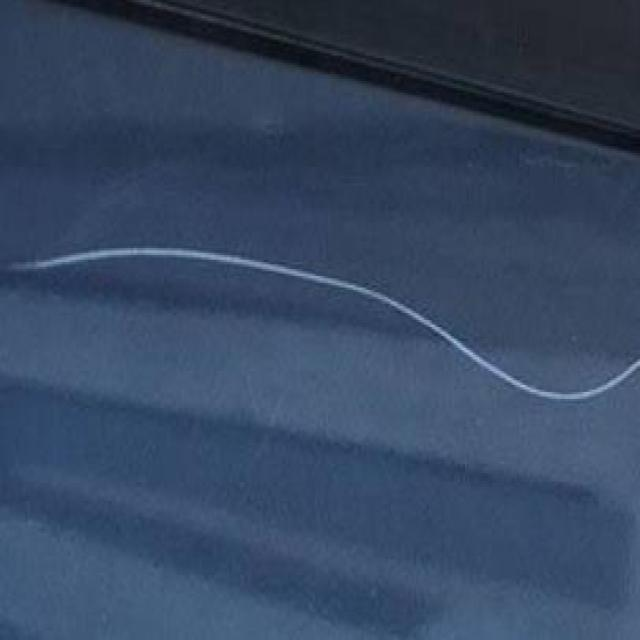scratch: (11, 243, 638, 406)
